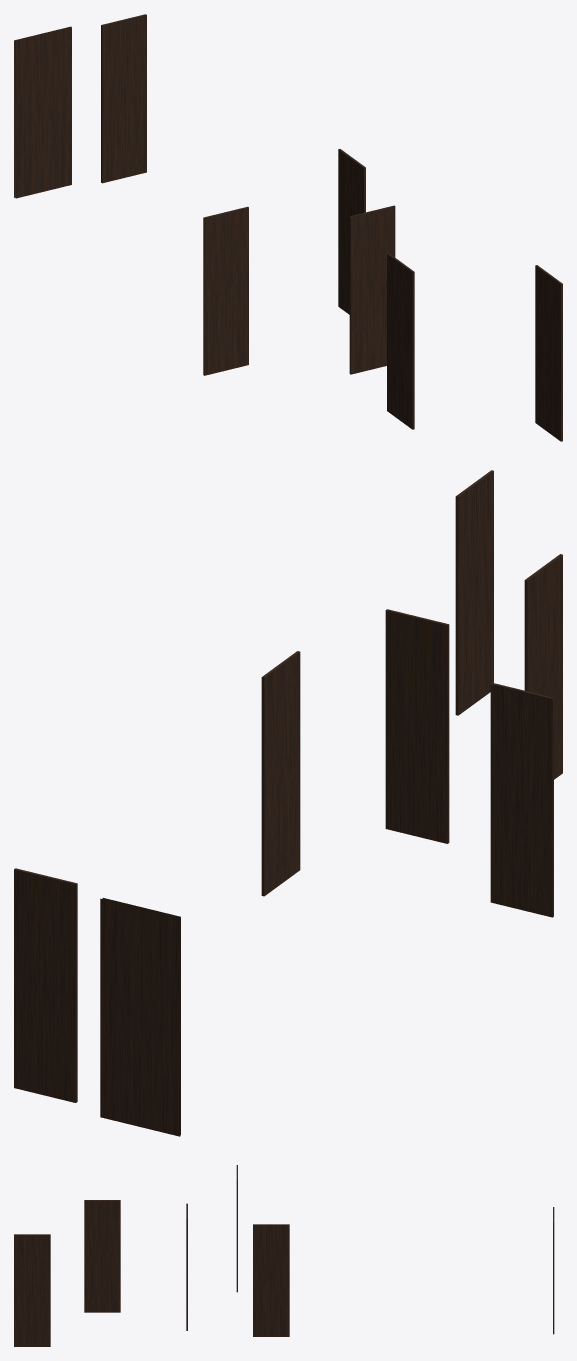
File: SM_puerta.fbx
3 renders of one model, top to bottom at view 1: azimuth 30°, elevation 25°; view 2: azimuth 150°, elevation 25°; view 3: azimuth 270°, elevation 25°, orthographic. The views are drawn at different scales.
Visible parts, largest first — view 1: SM_puerta; view 2: SM_puerta; view 3: SM_puerta.
Boxes of the visible parts, x1=… form: SM_puerta: x1=14, y1=14, x2=562, y2=441; SM_puerta: x1=14, y1=470, x2=562, y2=1136; SM_puerta: x1=14, y1=1165, x2=554, y2=1346.
Size of the model in its own units: 3164 by 2360 by 10498.
1 material, 1 textured.
